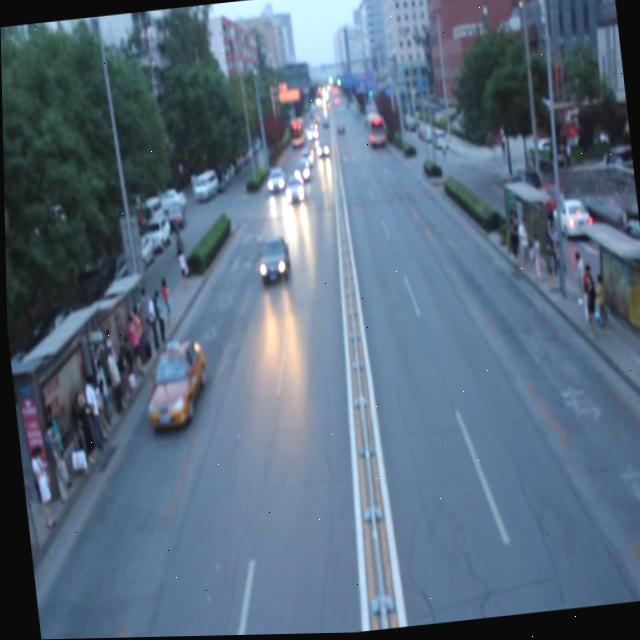car: (138, 335, 210, 435), (253, 235, 289, 286), (263, 169, 285, 196), (283, 175, 303, 204), (290, 164, 309, 184), (295, 151, 313, 170), (312, 142, 329, 162)
